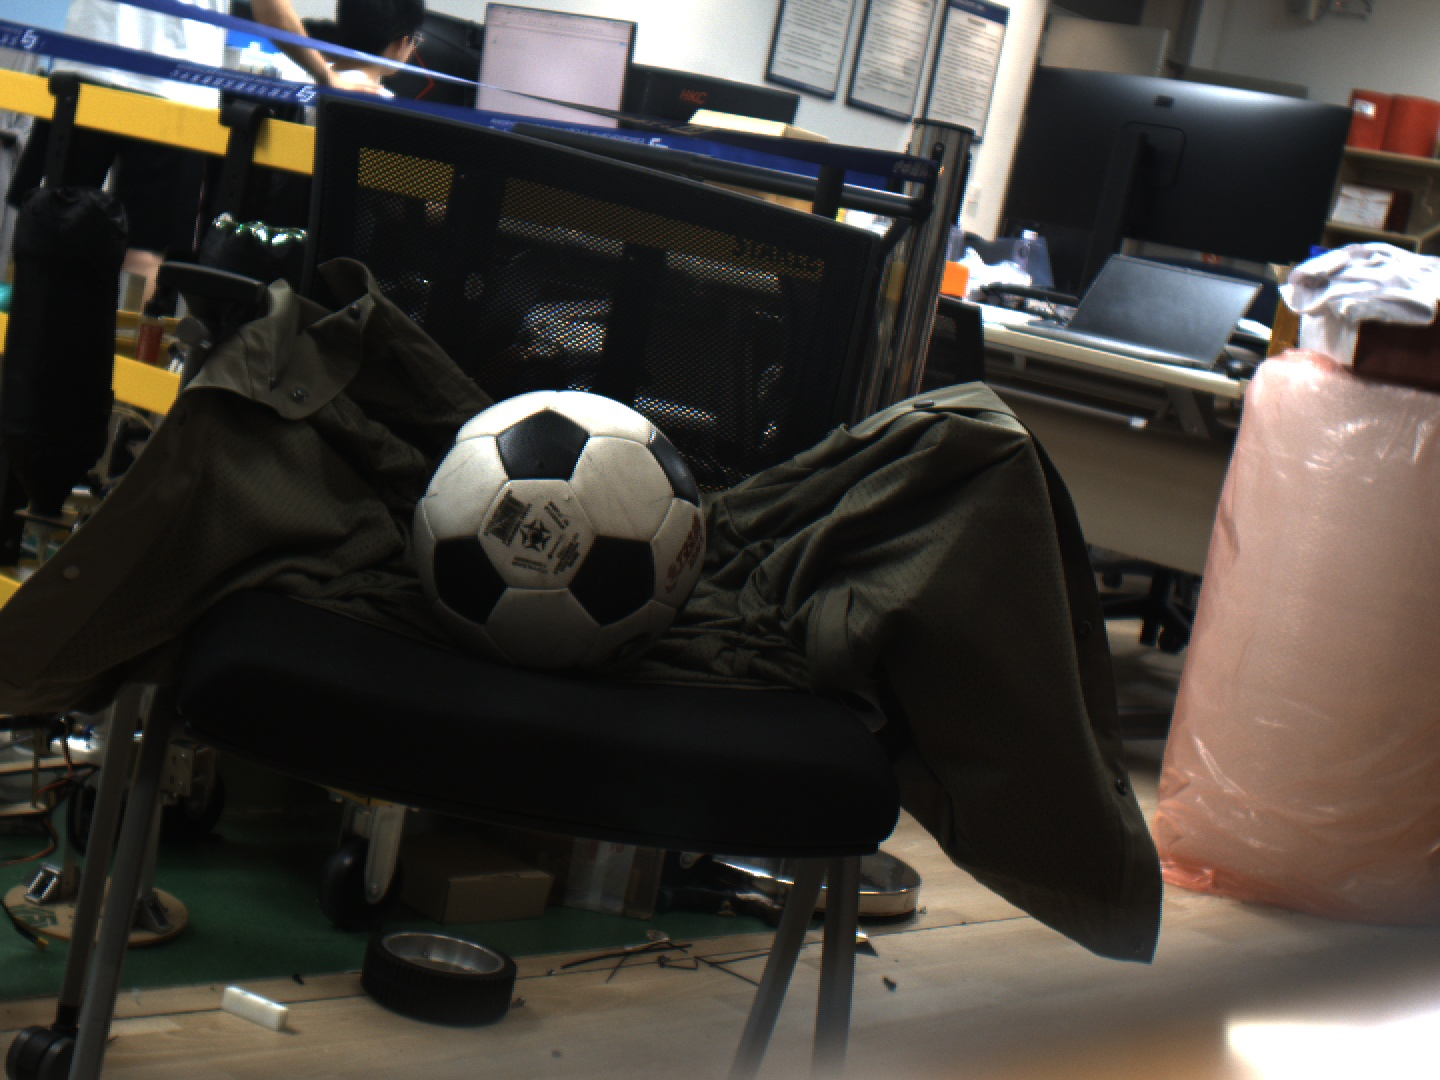ball: (403, 357, 721, 669)
